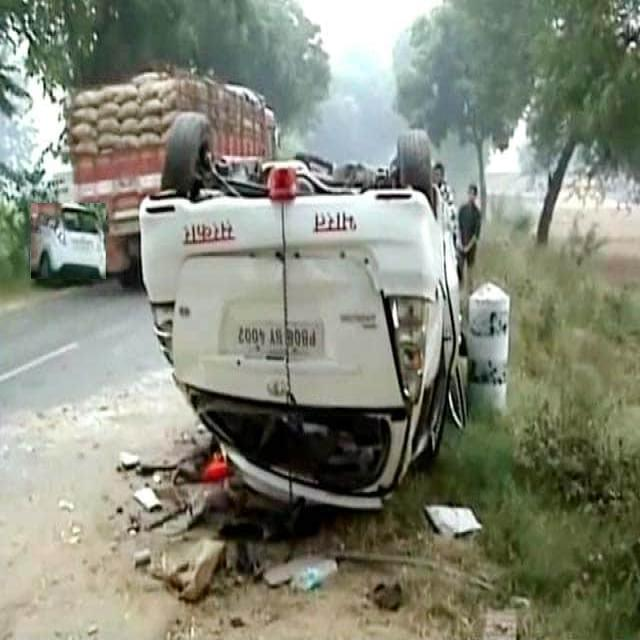accident: (140, 110, 469, 590)
car: (31, 204, 106, 279)
